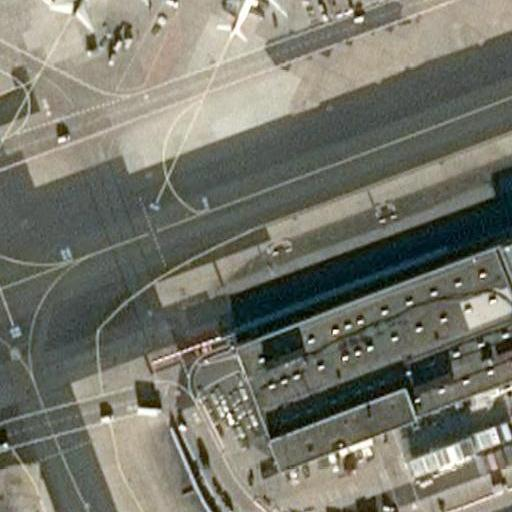Aircraft: (200, 0, 280, 38), (36, 0, 146, 26)
